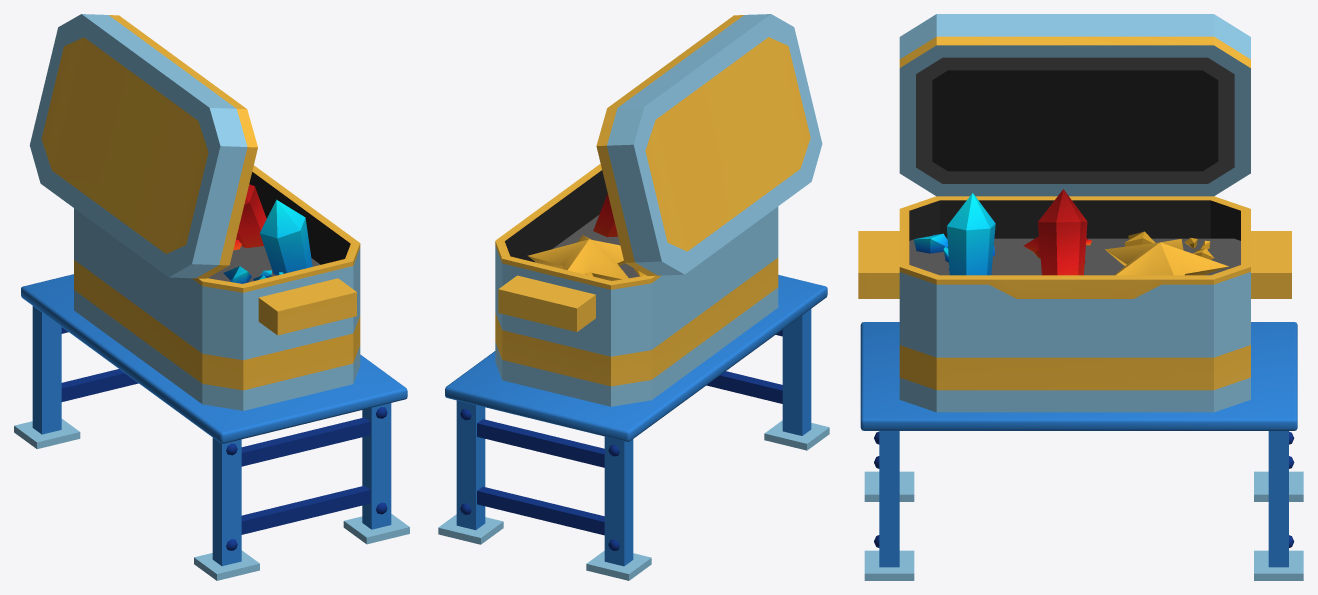
Rendered from M_Diamond_upgrade.fbx.
3 views of the same model, side by side, from view 1: azimuth 30°, elevation 25°; view 2: azimuth 150°, elevation 25°; view 3: azimuth 270°, elevation 25° (orthographic). The views are drawn at different scales.
Parts seen in each view (by area): view 1: M_Diamond_upgrade; view 2: M_Diamond_upgrade; view 3: M_Diamond_upgrade.
Part boxes in pixels (<box>): M_Diamond_upgrade: <box>14,14,409,580</box>; M_Diamond_upgrade: <box>438,14,829,580</box>; M_Diamond_upgrade: <box>858,14,1303,580</box>.
Size of the model in its own units: 1.59 by 3.24 by 2.73.
